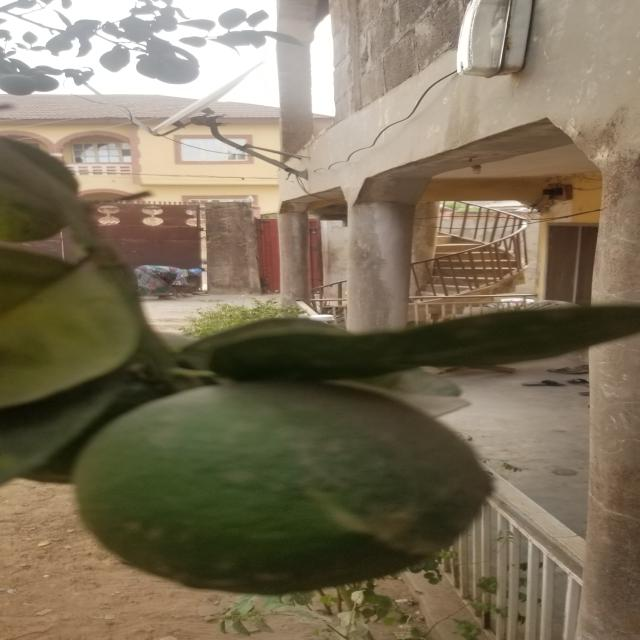Unripe: (68, 384, 503, 586)
